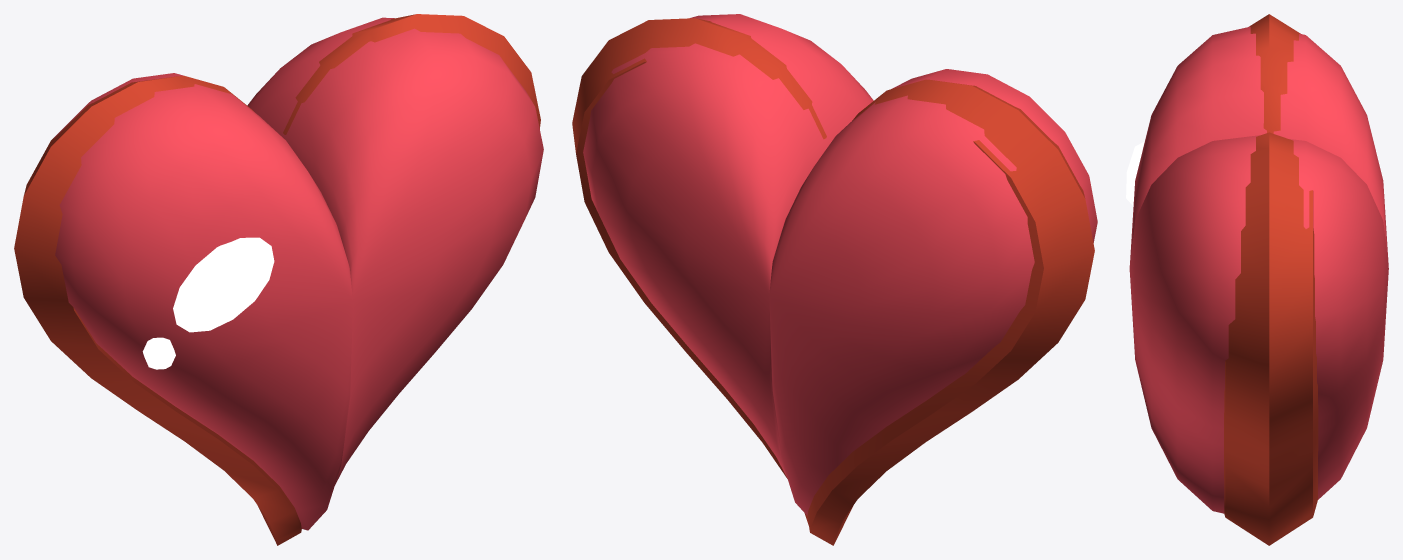
File: pickup_heart.glb
3 views of the same model, side by side, from view 1: azimuth 30°, elevation 25°; view 2: azimuth 150°, elevation 25°; view 3: azimuth 270°, elevation 25° (orthographic). The views are drawn at different scales.
Parts seen in each view (by area): view 1: pickup_heart; view 2: pickup_heart; view 3: pickup_heart.
Part boxes in pixels (x1,y1,x2,y2): pickup_heart: (14, 14, 543, 545); pickup_heart: (572, 14, 1097, 545); pickup_heart: (1126, 14, 1388, 545).
Bounding box in the file's own units: 0.564 × 0.5093 × 0.2635.
